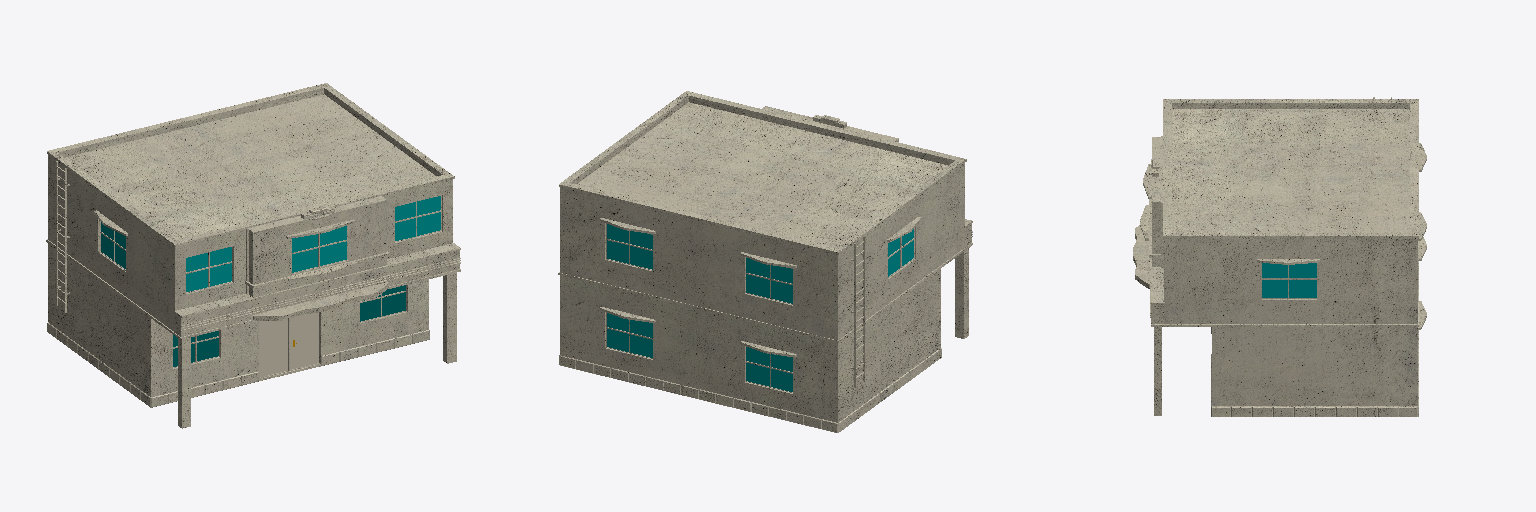
3 renders of one model, left to right at view 1: azimuth 30°, elevation 25°; view 2: azimuth 150°, elevation 25°; view 3: azimuth 270°, elevation 25°, orthographic.
Parts seen in each view (by area): view 1: building; view 2: building; view 3: building.
Part boxes in pixels (x1,y1,x2,y2): building: (46, 83, 460, 428); building: (558, 91, 972, 432); building: (1133, 97, 1426, 416).
Bounding box in the file's own units: 7.08 × 4.28 × 6.13.
Materials: 2 (2 with a texture image).